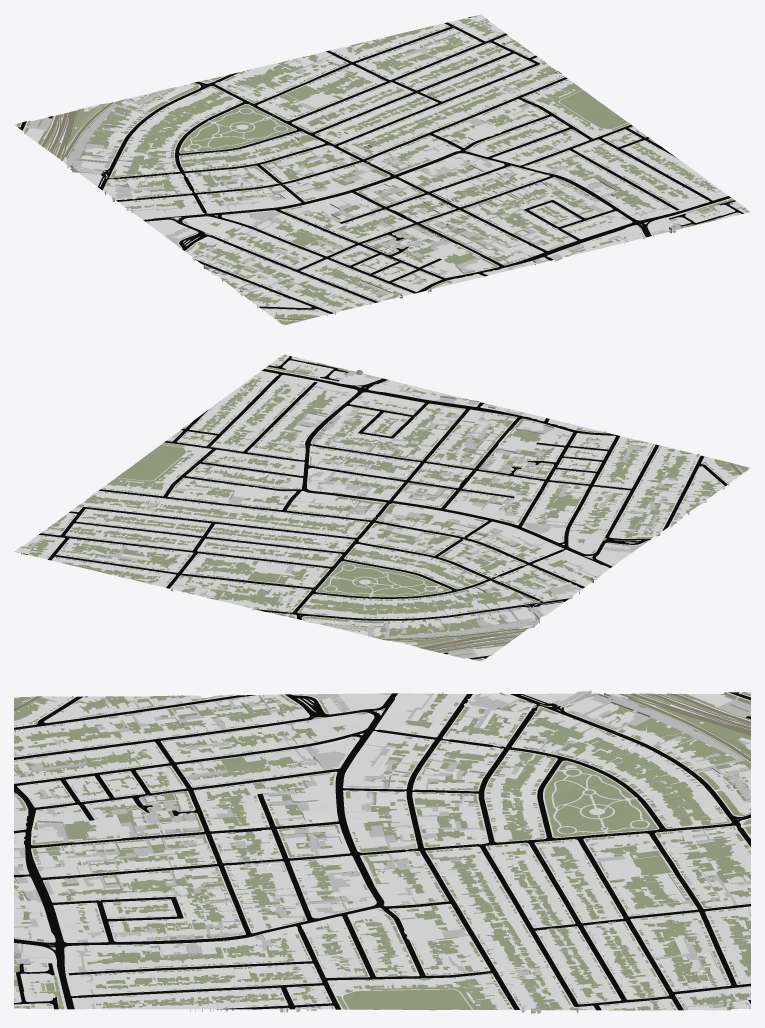
The model's file is TQ2570_Terrain_LOD_1_draco.glb.
3 views of the same model, one above another, from view 1: azimuth 30°, elevation 25°; view 2: azimuth 150°, elevation 25°; view 3: azimuth 270°, elevation 25° (orthographic). The views are drawn at different scales.
Visible parts, largest first — view 1: TQ2570_Terrain; view 2: TQ2570_Terrain; view 3: TQ2570_Terrain.
Boxes of the visible parts, x1,y1,x2,y2 form: TQ2570_Terrain: (14, 14, 750, 325); TQ2570_Terrain: (14, 354, 750, 661); TQ2570_Terrain: (14, 690, 750, 1013).
Size of the model in its own units: 1000 by 18.74 by 1000.
Materials: 1 (1 with a texture image).
